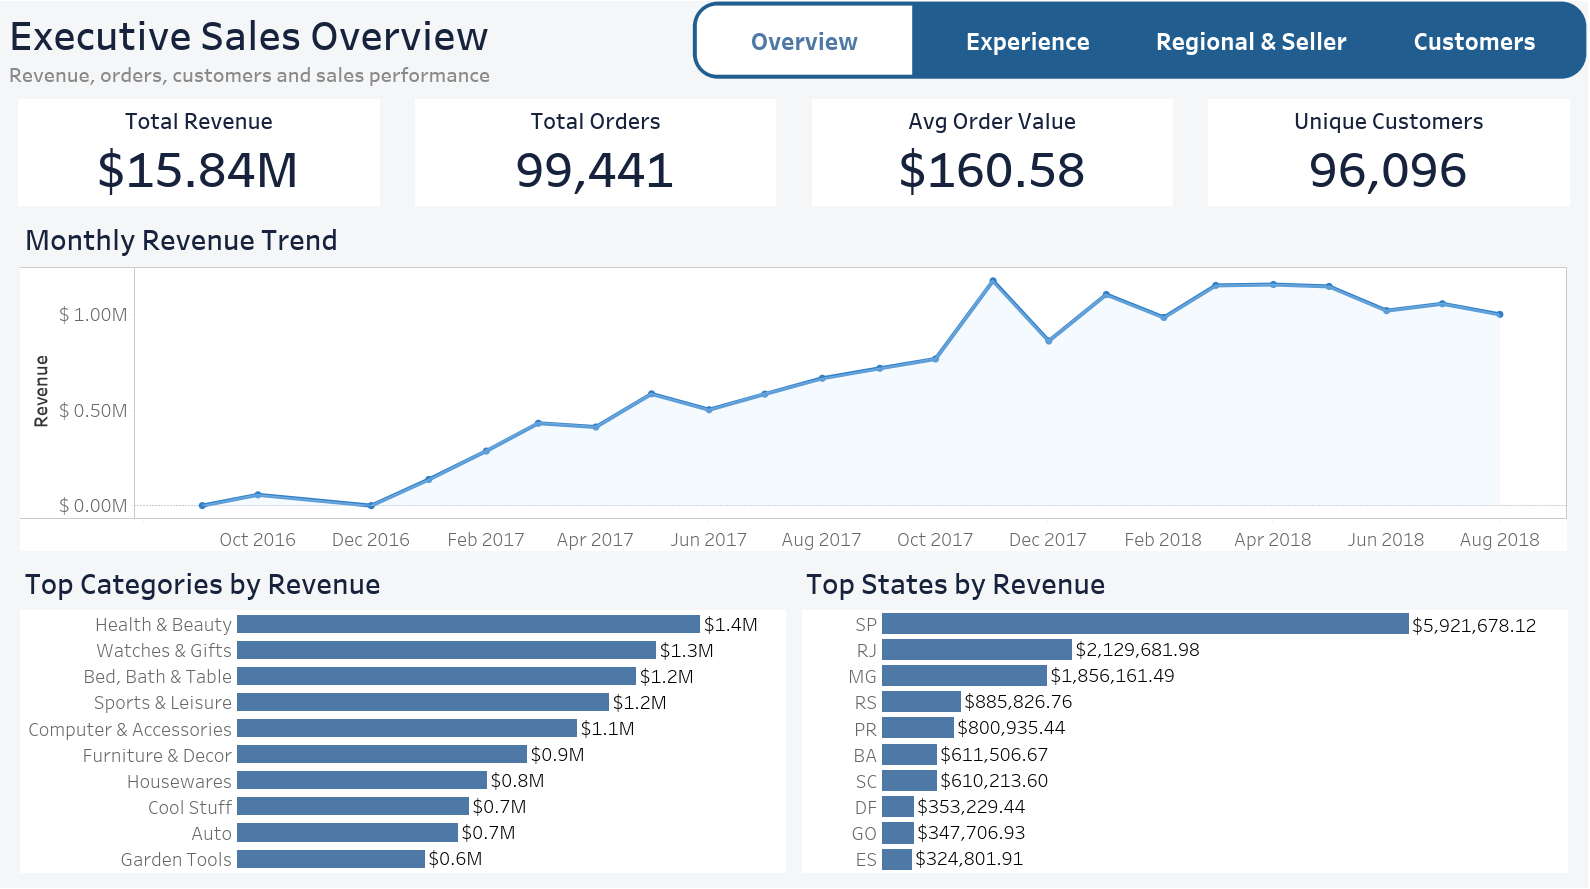

What the dashboard file says about the page in this screenshot:
{"tool":"tableau","page":{"name":"01 - Executive Sales Overview","canvas":[1600,900],"ordinal":0},"visuals":[{"type":"text","box":[8,8,1584,91.4]},{"type":"dashboard-object","box":[699,8,223,77]},{"type":"dashboard-object","box":[922,8,223,77]},{"type":"dashboard-object","box":[1145,8,223,77]},{"type":"dashboard-object","box":[1368,8,223,77]},{"type":"worksheet","title":"KPI - Total Revenue","mark":"Automatic","box":[8,99,396,120]},{"type":"worksheet","title":"KPI - Total Orders","mark":"Automatic","box":[404,99,396,120]},{"type":"worksheet","title":"KPI - Average Order Value","mark":"Automatic","box":[800,99,396,120]},{"type":"worksheet","title":"KPI - Unique Customers","mark":"Automatic","box":[1196,99,396,120]},{"type":"worksheet","title":"Sales - Monthly Revenue Trend","mark":"Line","rows":["total_revenue","total_revenue"],"cols":["Calculation_0321935976210432"],"box":[8,219.4,1584,338.3]},{"type":"worksheet","title":"Top Categories by Revenue","mark":"Automatic","rows":["category_name"],"cols":["total_revenue"],"box":[8,558,792,334]},{"type":"worksheet","title":"Top States by Revenue","mark":"Bar","rows":["customer_state"],"cols":["total_revenue"],"box":[800,558,792,334]}]}

Visuals, with their boxes in screenshot pixels (x1, y1, x2, y2), scaled from the page's 1600x900 canvas onto the 1590x889 screenshot:
text: <region>8, 8, 1582, 98</region>
dashboard-object: <region>695, 8, 916, 84</region>
dashboard-object: <region>916, 8, 1138, 84</region>
dashboard-object: <region>1138, 8, 1359, 84</region>
dashboard-object: <region>1359, 8, 1581, 84</region>
"KPI - Total Revenue" worksheet: <region>8, 98, 401, 216</region>
"KPI - Total Orders" worksheet: <region>401, 98, 795, 216</region>
"KPI - Average Order Value" worksheet: <region>795, 98, 1189, 216</region>
"KPI - Unique Customers" worksheet: <region>1189, 98, 1582, 216</region>
"Sales - Monthly Revenue Trend" worksheet (Line marks): <region>8, 217, 1582, 551</region>
"Top Categories by Revenue" worksheet: <region>8, 551, 795, 881</region>
"Top States by Revenue" worksheet (Bar marks): <region>795, 551, 1582, 881</region>
